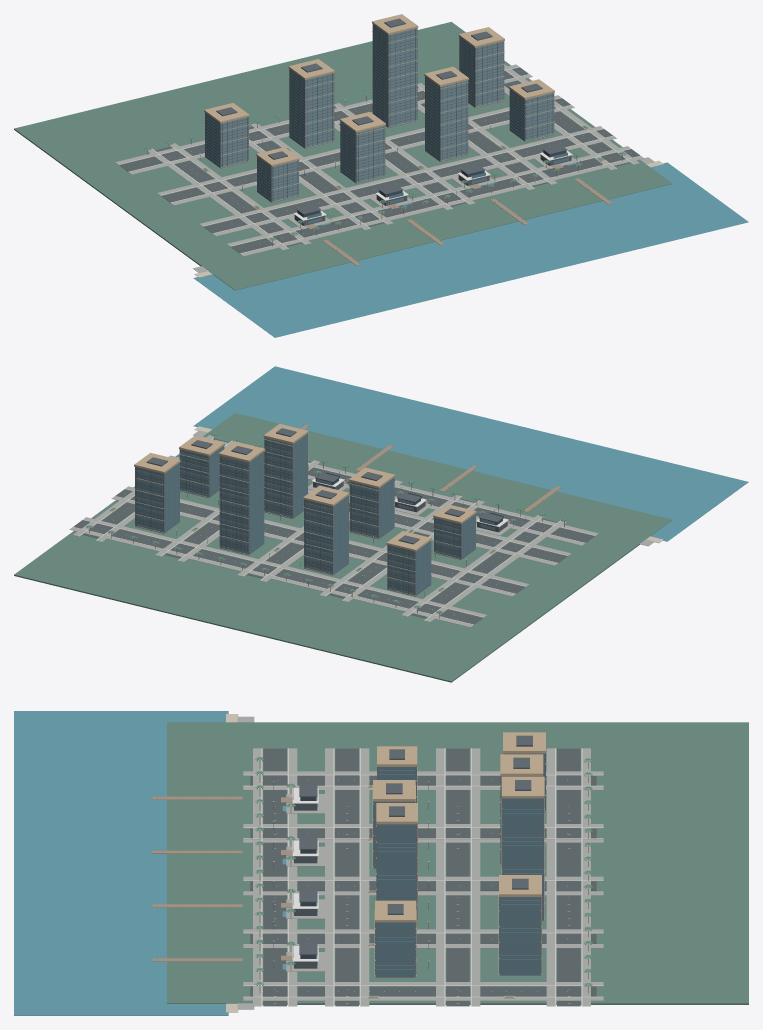
The model's file is city.glb.
The picture shows the model from 3 angles, top to bottom: view 1: azimuth 30°, elevation 25°; view 2: azimuth 150°, elevation 25°; view 3: azimuth 270°, elevation 25°; orthographic projection. The views are drawn at different scales.
Parts seen in each view (by area): view 1: grass, water, pavement, asphalt, glass2, graphite, glass, bronze, charcoal, curb, wood, foliage2; view 2: grass, water, glass, pavement, graphite, asphalt, bronze, glass2, charcoal, curb, wood, foliage2; view 3: grass, water, pavement, asphalt, glass, curb, bronze, graphite, charcoal, wood, foliage2, foliage (+2 smaller).
Part boxes in pixels (left/top/right/bottom): grass: left=14, top=22, right=672, bottom=290; water: left=193, top=162, right=748, bottom=337; pavement: left=115, top=64, right=654, bottom=272; asphalt: left=119, top=67, right=639, bottom=253; glass2: left=221, top=28, right=553, bottom=201; graphite: left=205, top=24, right=554, bottom=202; glass: left=205, top=24, right=567, bottom=224; bronze: left=202, top=14, right=611, bottom=264; charcoal: left=200, top=18, right=580, bottom=233; curb: left=118, top=66, right=640, bottom=253; wood: left=306, top=164, right=612, bottom=265; foliage2: left=144, top=93, right=625, bottom=240; grass: left=14, top=413, right=672, bottom=682; water: left=193, top=366, right=748, bottom=541; glass: left=135, top=434, right=503, bottom=594; pavement: left=69, top=430, right=654, bottom=627; graphite: left=135, top=433, right=475, bottom=596; asphalt: left=73, top=438, right=594, bottom=624; bronze: left=109, top=424, right=560, bottom=595; glass2: left=135, top=437, right=495, bottom=595; charcoal: left=136, top=428, right=525, bottom=596; curb: left=73, top=436, right=595, bottom=624; wood: left=300, top=424, right=561, bottom=523; foliage2: left=86, top=433, right=567, bottom=613; grass: left=167, top=722, right=748, bottom=1004; water: left=14, top=711, right=286, bottom=1015; pavement: left=237, top=716, right=603, bottom=1009; asphalt: left=250, top=748, right=596, bottom=1006; glass: left=293, top=753, right=545, bottom=976; curb: left=243, top=748, right=603, bottom=1006; bronze: left=157, top=732, right=545, bottom=998; graphite: left=373, top=753, right=545, bottom=977; charcoal: left=273, top=735, right=545, bottom=974; wood: left=152, top=796, right=292, bottom=961; foliage2: left=255, top=757, right=592, bottom=997; foliage: left=256, top=757, right=591, bottom=986.
Bounding box in the file's own units: 520 × 103 × 530.
